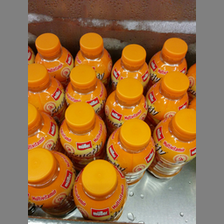juice: (71, 158, 129, 222), (105, 117, 156, 185), (147, 109, 196, 178), (29, 148, 77, 218)
